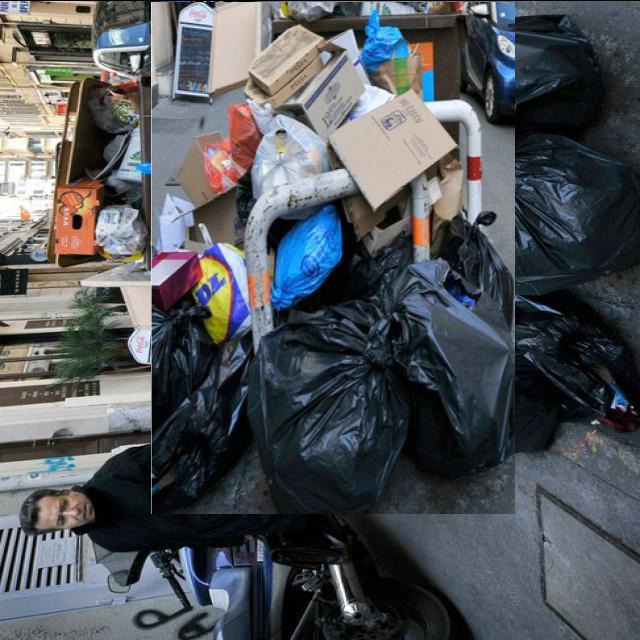Trashbag: (240, 297, 410, 512), (396, 281, 512, 480), (503, 136, 636, 294), (153, 388, 249, 510), (500, 17, 606, 126), (150, 292, 218, 412)
